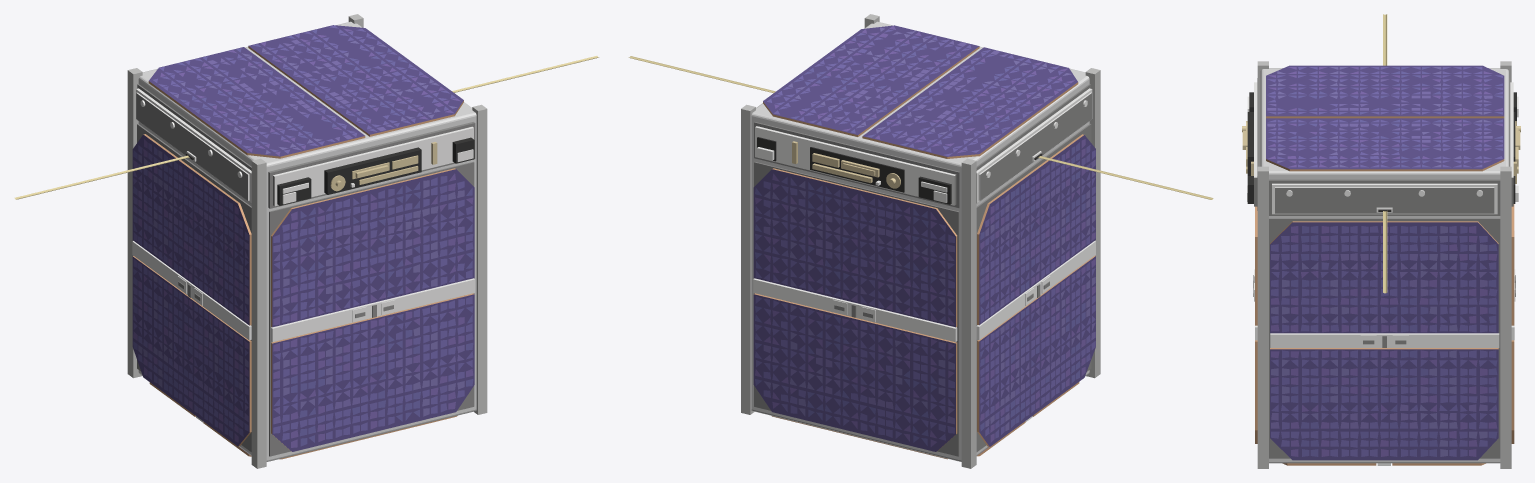
File: cubesat-1u.glb
3 renders of one model, left to right at view 1: azimuth 30°, elevation 25°; view 2: azimuth 150°, elevation 25°; view 3: azimuth 270°, elevation 25°, orthographic. The views are drawn at different scales.
Visible parts, largest first — view 1: Layer_0; view 2: Layer_0; view 3: Layer_0.
Boxes of the visible parts, x1,y1,x2,y2 form: Layer_0: (14, 14, 598, 468); Layer_0: (628, 14, 1213, 468); Layer_0: (1242, 14, 1520, 468).
Size of the model in its own units: 5.19 by 2.6 by 2.2.
